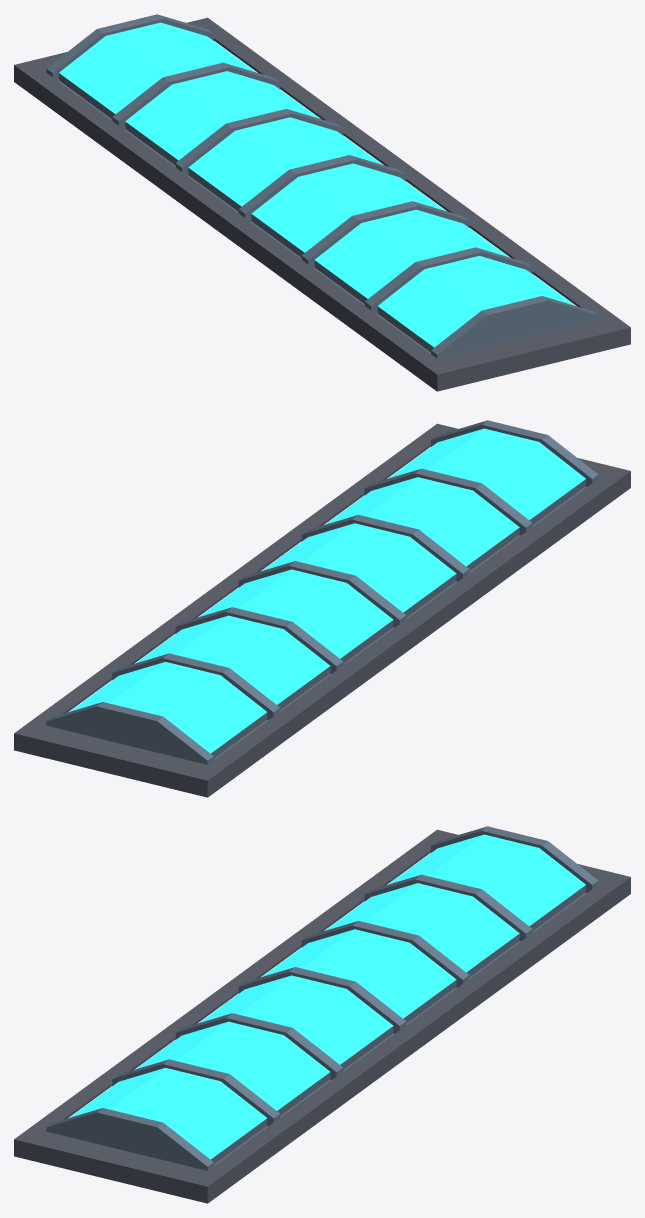
Rendered from NeonB.fbx.
The picture shows the model from 3 angles, top to bottom: view 1: azimuth 30°, elevation 25°; view 2: azimuth 150°, elevation 25°; view 3: azimuth 330°, elevation 25°; orthographic projection.
Parts seen in each view (by area): view 1: NeonB; view 2: NeonB; view 3: NeonB.
Boxes of the visible parts, left/top/right/bottom form: NeonB: left=14, top=14, right=630, bottom=391; NeonB: left=14, top=420, right=630, bottom=797; NeonB: left=14, top=826, right=630, bottom=1203.
Size of the model in its own units: 20.38 by 4.86 by 77.07.
